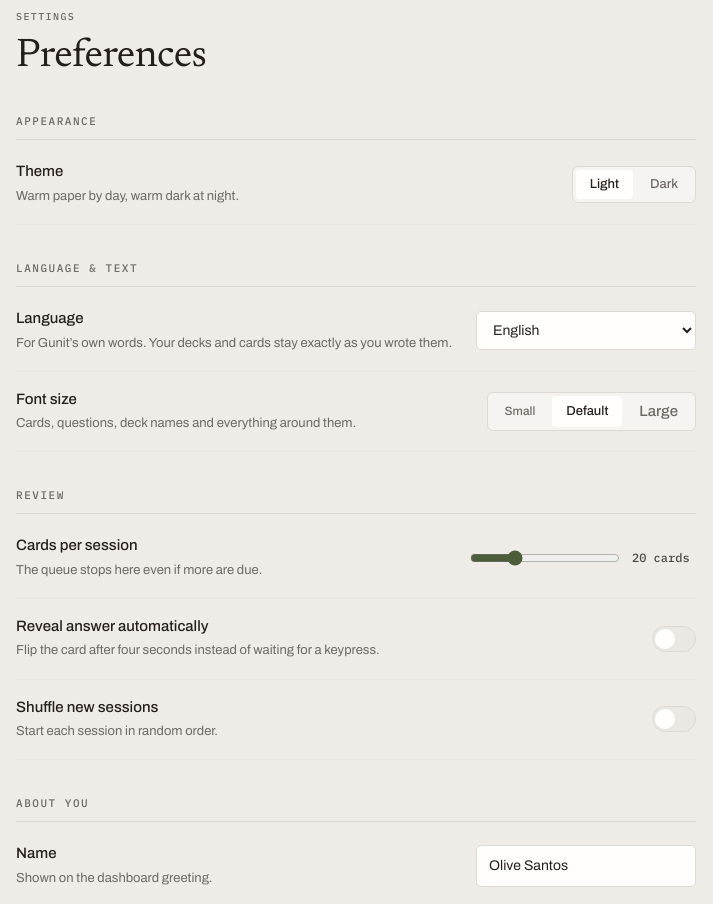
Test case: settings that arrive after the page opened › keeps what the reader typed when something else changes
Replace the text in the field named "Name" with "Olive" at (586, 866), box [476,845,696,887]
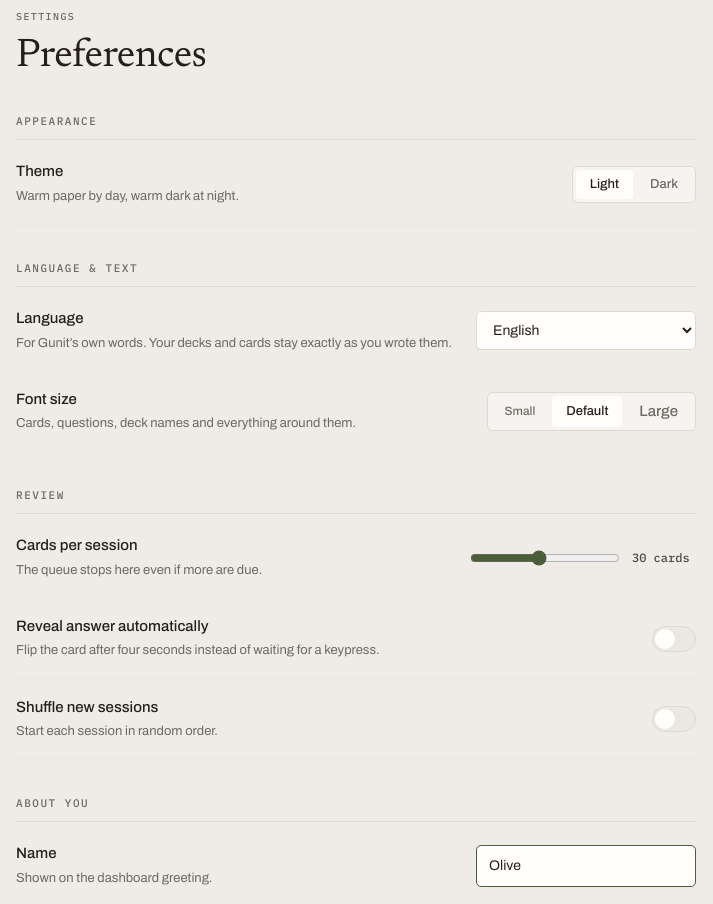
Expected: the text "30 cards" is shown, [632,550,696,566]
